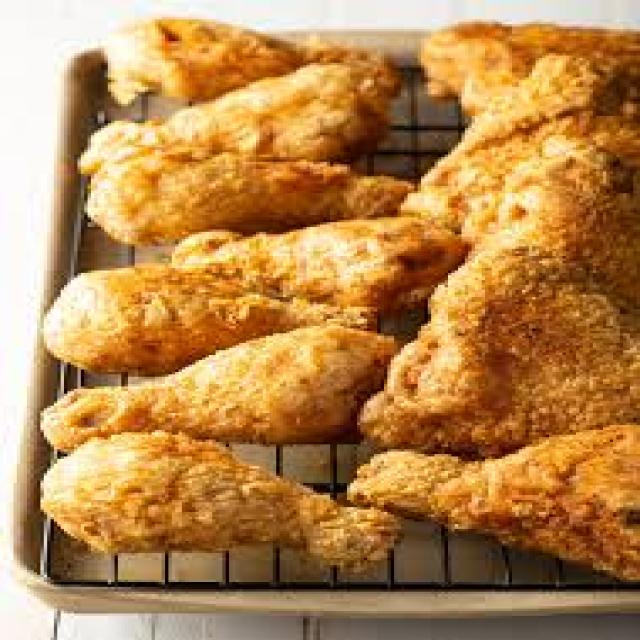Frango: (57, 17, 640, 587)
